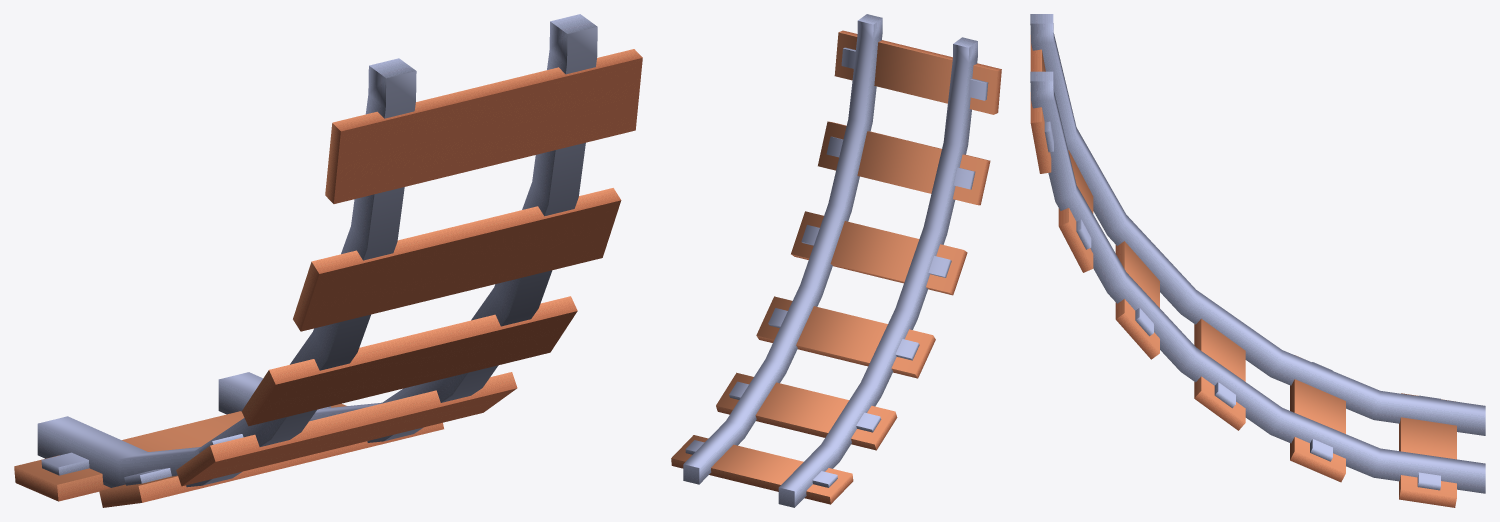
The model's file is railroad-straight-bend.glb.
3 views of the same model, side by side, from view 1: azimuth 30°, elevation 25°; view 2: azimuth 150°, elevation 25°; view 3: azimuth 270°, elevation 25° (orthographic). The views are drawn at different scales.
Visible parts, largest first — view 1: railroad-straight-bend; view 2: railroad-straight-bend; view 3: railroad-straight-bend.
Boxes of the visible parts, x1,y1,x2,y2 form: railroad-straight-bend: [14, 14, 642, 507]; railroad-straight-bend: [671, 14, 1001, 507]; railroad-straight-bend: [1030, 14, 1485, 507].
Bounding box in the file's own units: 1 × 2 × 2.
1 material, 1 textured.
